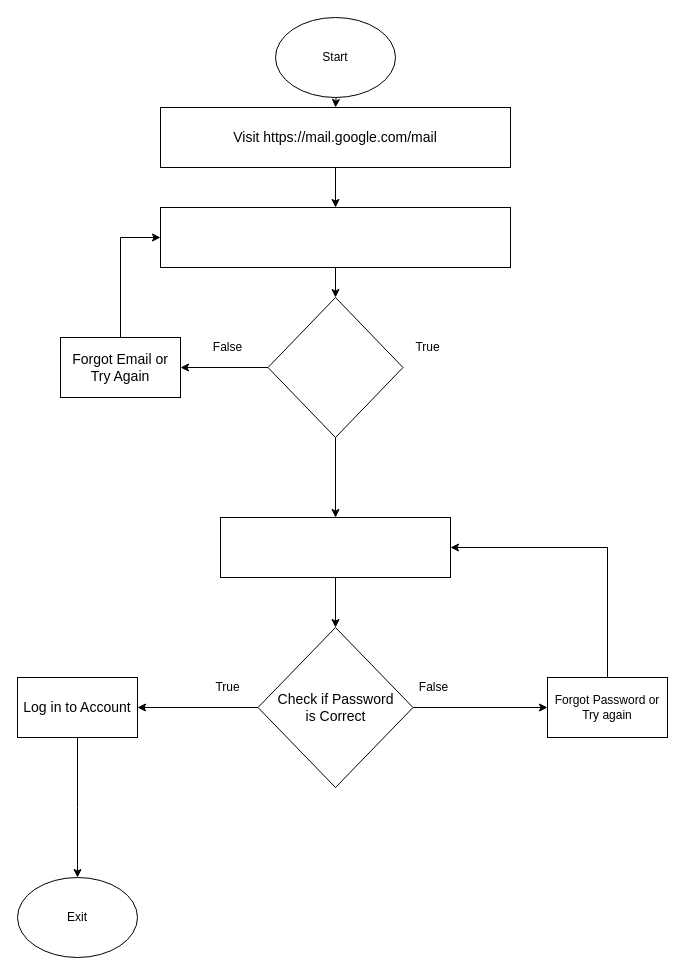
This 685x975 diagram has some shape labels left out. Each missing label, with the centre of its shape:
Check if Email ID Exists: the point at 335,367
Enter your Password: the point at 335,547
Enter your Username or Email ID: the point at 335,237
